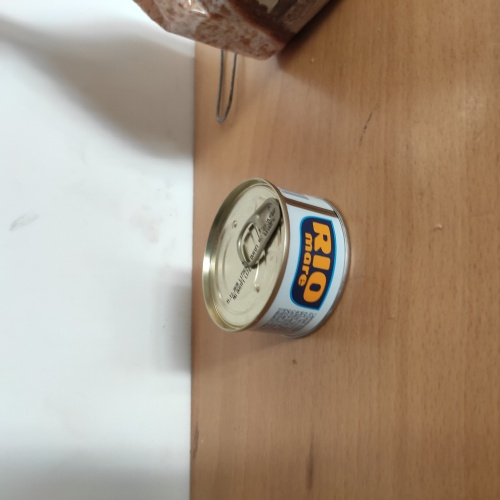tonno: (192, 176, 356, 344)
